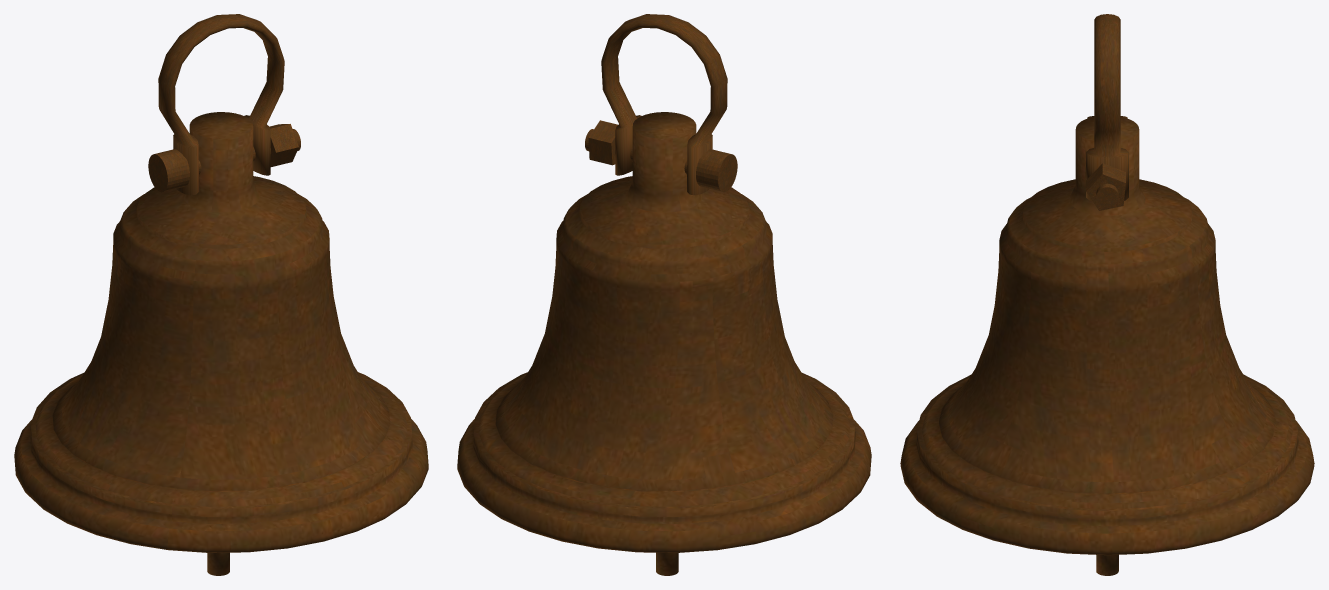
File: BELL.glb
The picture shows the model from 3 angles, left to right: view 1: azimuth 30°, elevation 25°; view 2: azimuth 150°, elevation 25°; view 3: azimuth 270°, elevation 25°; orthographic projection.
Parts seen in each view (by area): view 1: BELL, BELL.001; view 2: BELL, BELL.001; view 3: BELL.
Part boxes in pixels (box(x1,y1,x2,y2)): BELL: box(14, 14, 428, 552); BELL.001: box(207, 552, 229, 575); BELL: box(457, 14, 871, 552); BELL.001: box(656, 552, 678, 575); BELL: box(900, 14, 1314, 555).
Size of the model in its own units: 1.31 by 1.93 by 1.31.
Materials: 1 (1 with a texture image).
